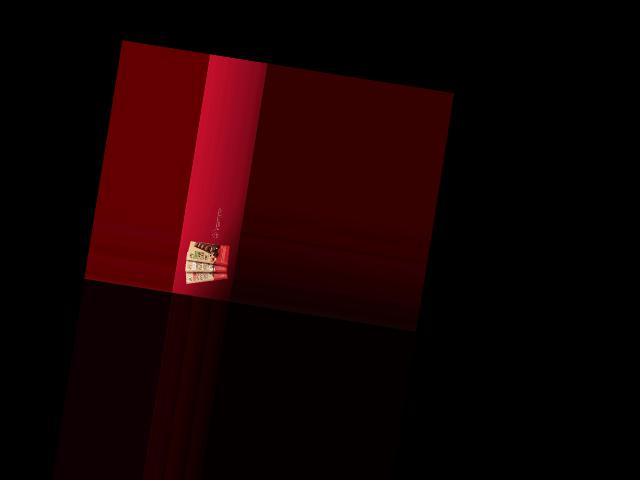chocolate: (181, 262, 230, 290)
